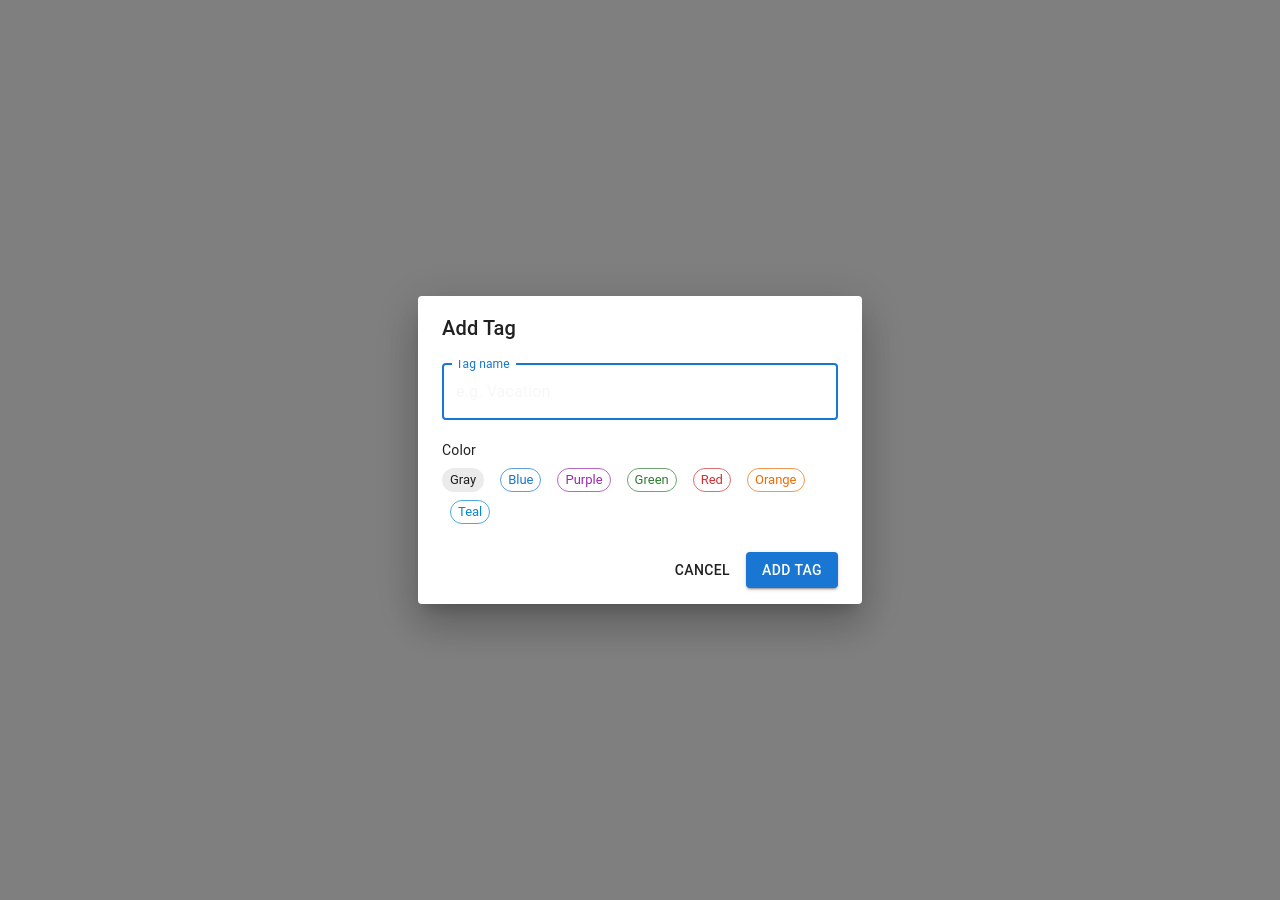
TagFormDialog › shows the error message returned by a failed submit
Type "Business" into the field labelled "Tag name".
click(640, 392); type("Business")  # box [442,364,838,420]
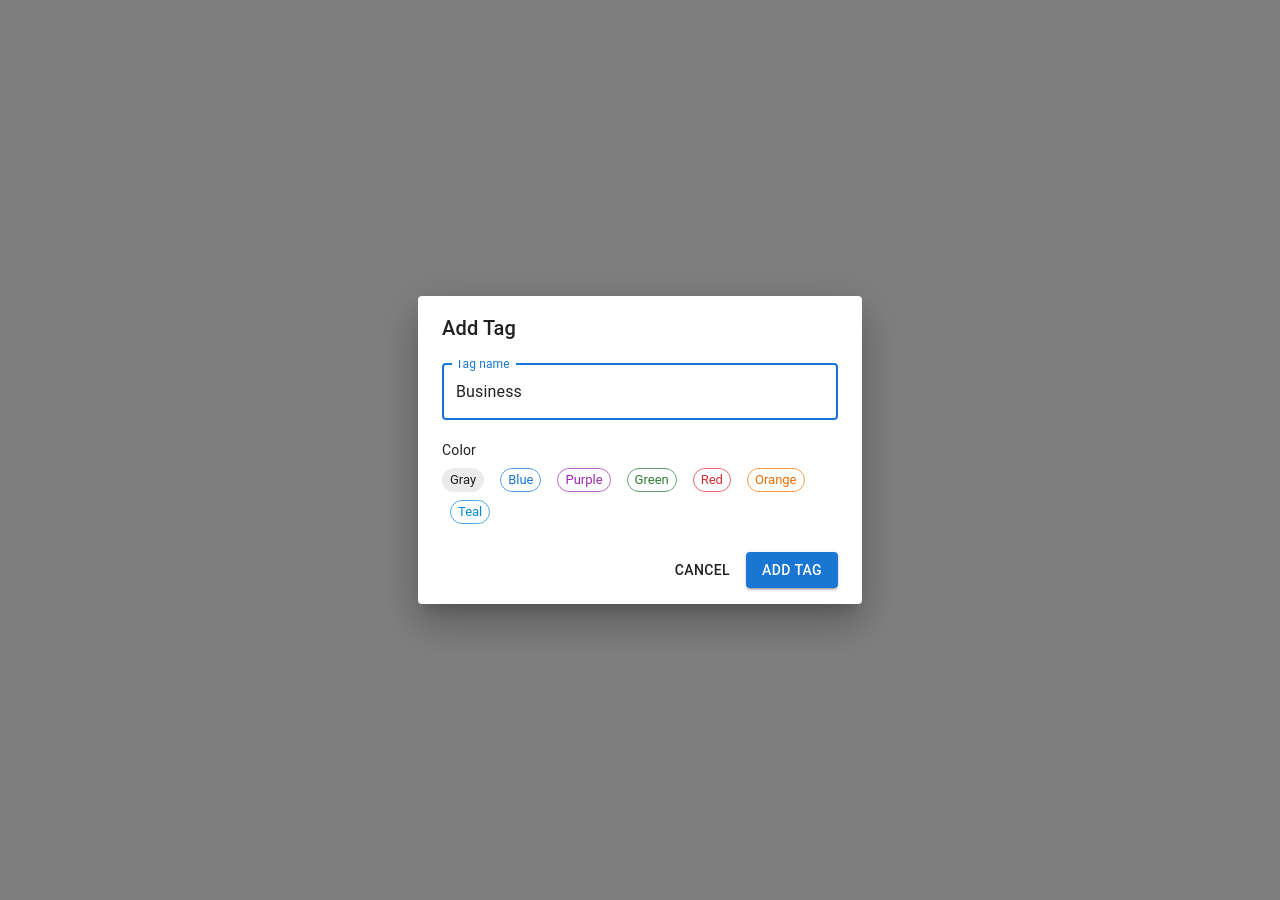
Click the button "Add Tag".
click(792, 570)  # box [746,552,838,588]
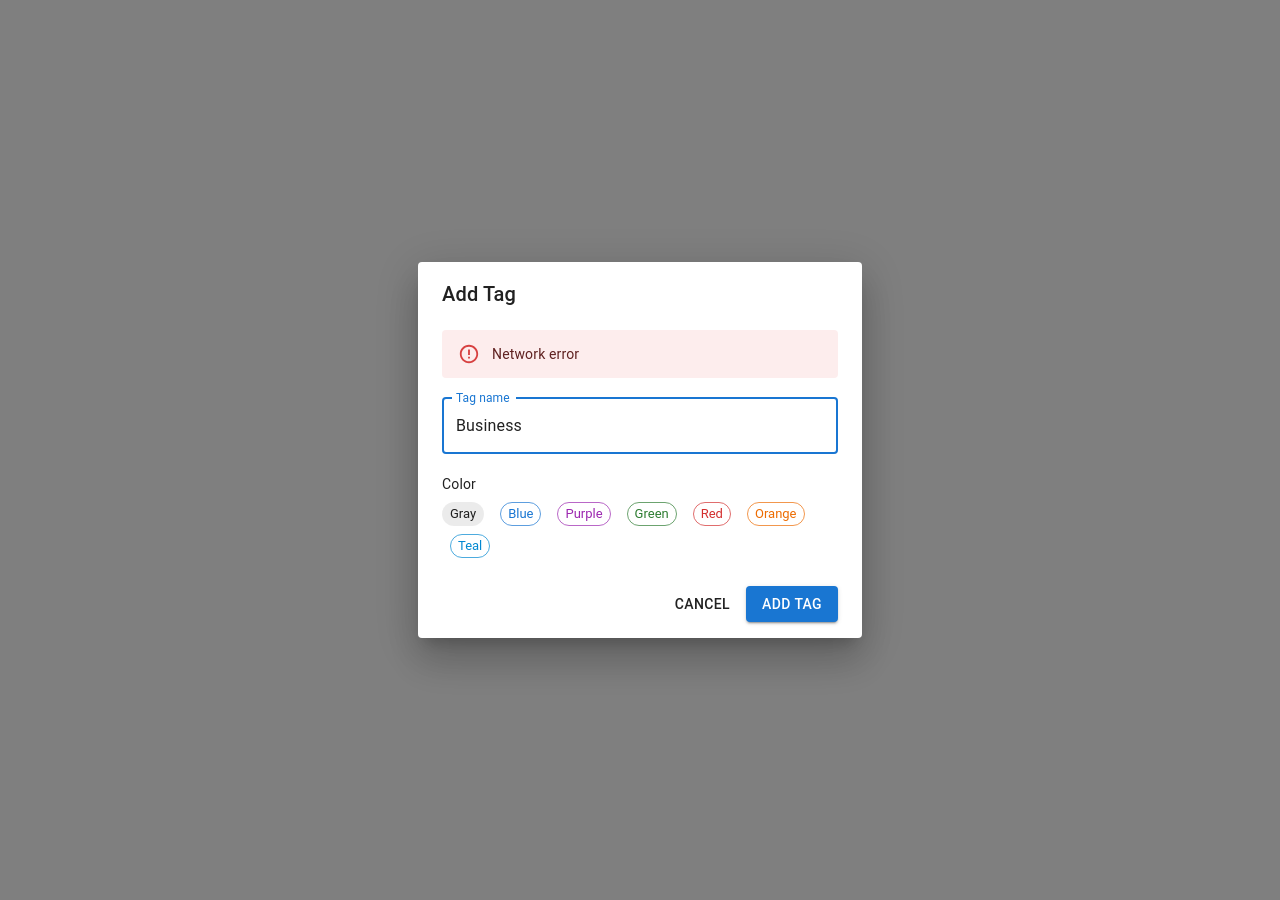
Expected: the text "Network error" is shown, [492,346,579,362]
